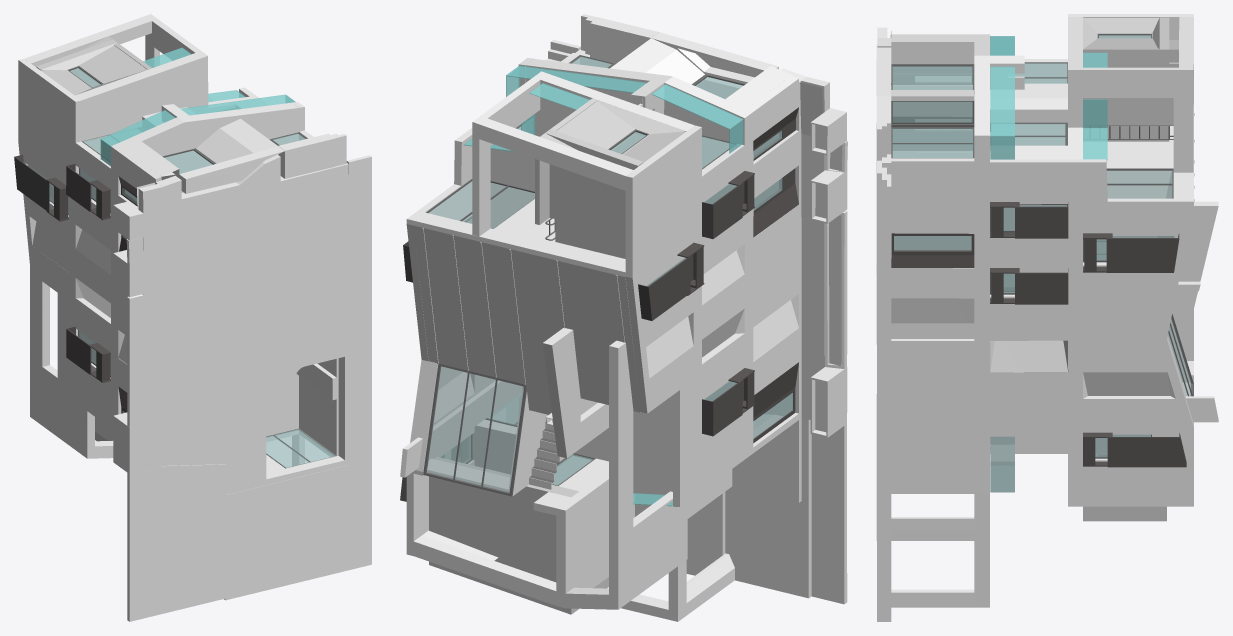
File: villa3.gltf
The picture shows the model from 3 angles, left to right: view 1: azimuth 30°, elevation 25°; view 2: azimuth 150°, elevation 25°; view 3: azimuth 270°, elevation 25°; orthographic projection. The views are drawn at different scales.
Size of the model in its own units: 12.51 by 22.82 by 13.87.
